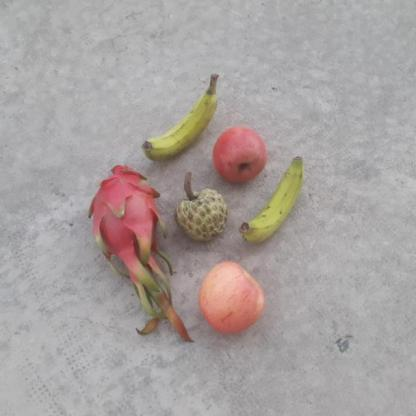annona: (174, 188, 231, 243)
apple: (188, 258, 266, 332), (216, 123, 269, 180)
banana: (136, 84, 218, 162), (238, 153, 305, 245)
pitaya: (85, 160, 165, 281)
